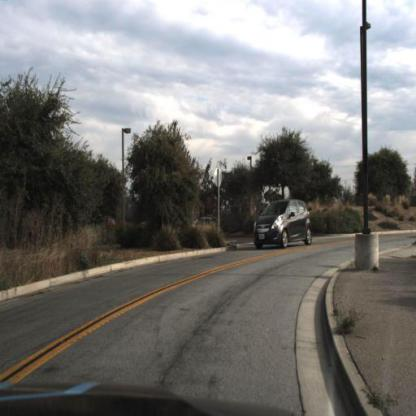car: (252, 198, 313, 247)
